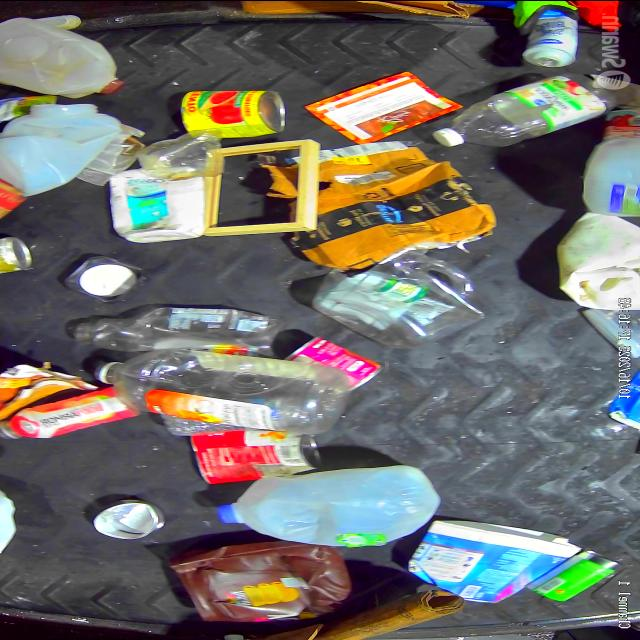can: (424, 76, 612, 146), (190, 428, 324, 484), (284, 336, 381, 392), (177, 88, 287, 136), (528, 550, 620, 600), (90, 493, 160, 542), (0, 231, 38, 273)
milk_jug: (216, 462, 437, 546), (0, 100, 120, 190), (1, 12, 122, 98), (556, 208, 640, 314), (584, 121, 640, 215)
non_white_jug: (168, 540, 360, 620)
plastic_bottle: (101, 352, 349, 432), (65, 304, 276, 358), (0, 388, 134, 438)
